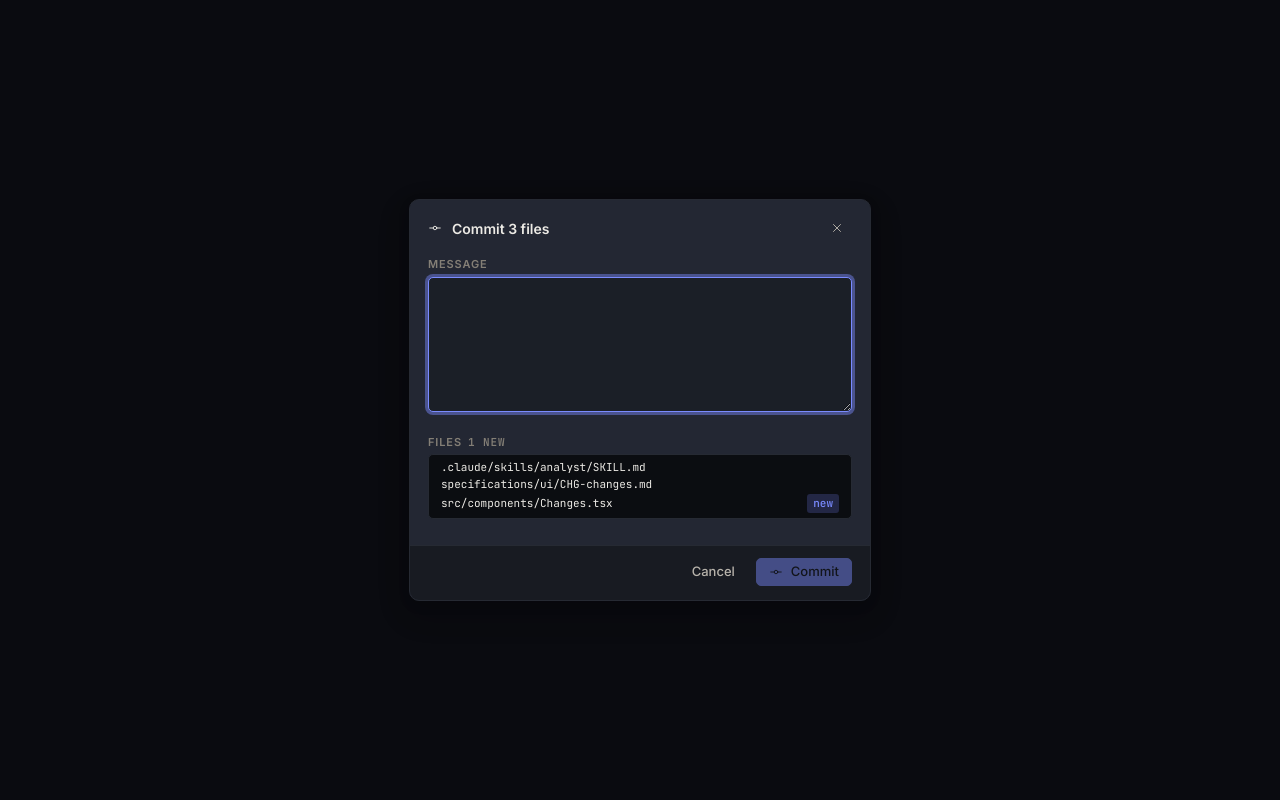
dismissal › CMW-FR-09 clears the in-flight report when the commit is rejected
Type "msg" into the text box named "Commit message".
click(640, 344); type("msg")  # box x1=428 y1=277 x2=852 y2=412
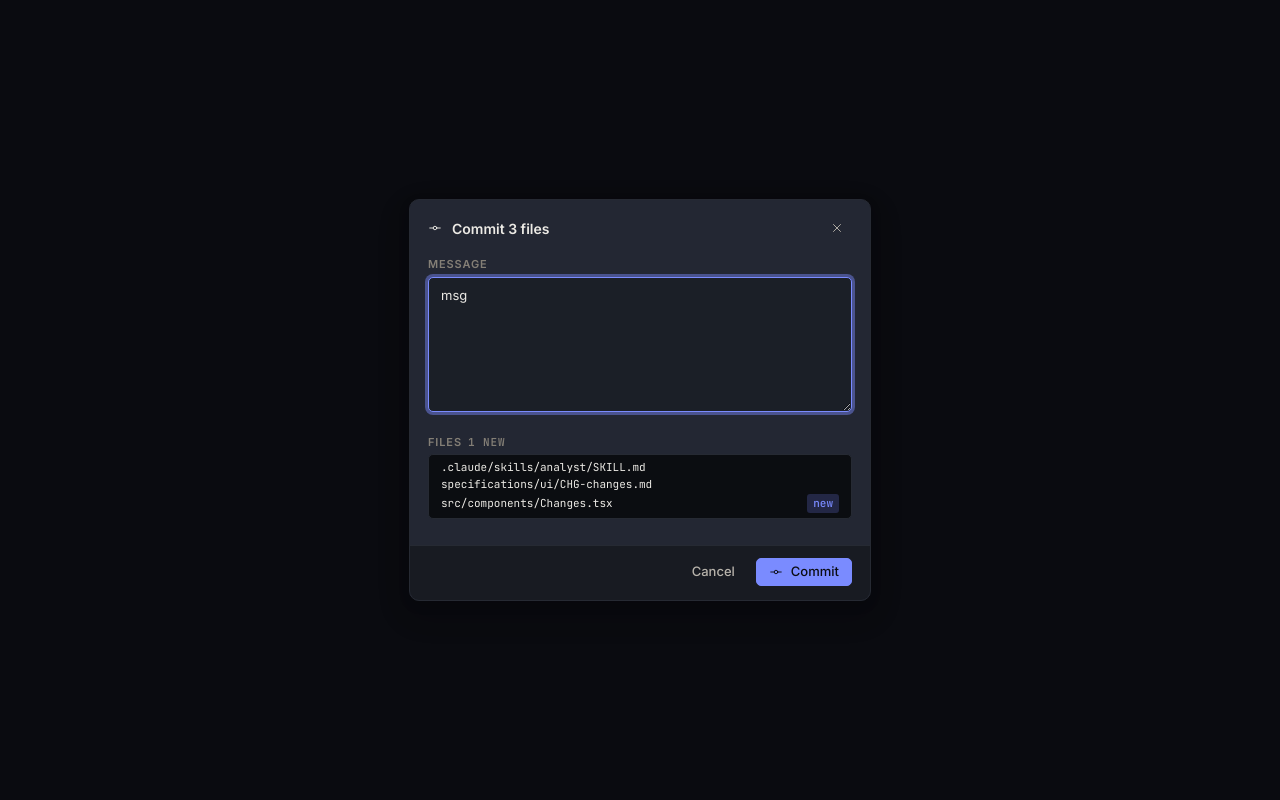
Click the button "Commit".
click(804, 572)  # box x1=756 y1=558 x2=852 y2=586
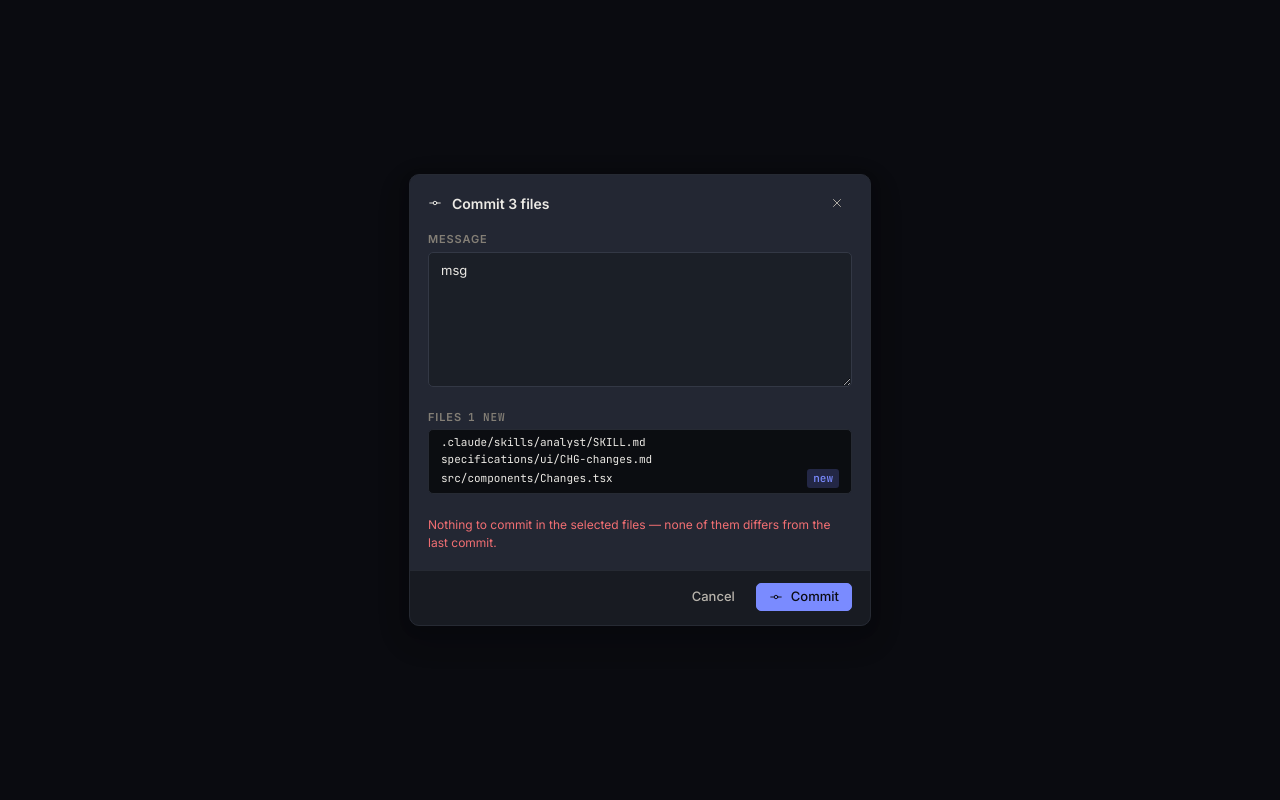
Expected: the message with test id "commit-error" is shown, x1=428 y1=516 x2=852 y2=552
